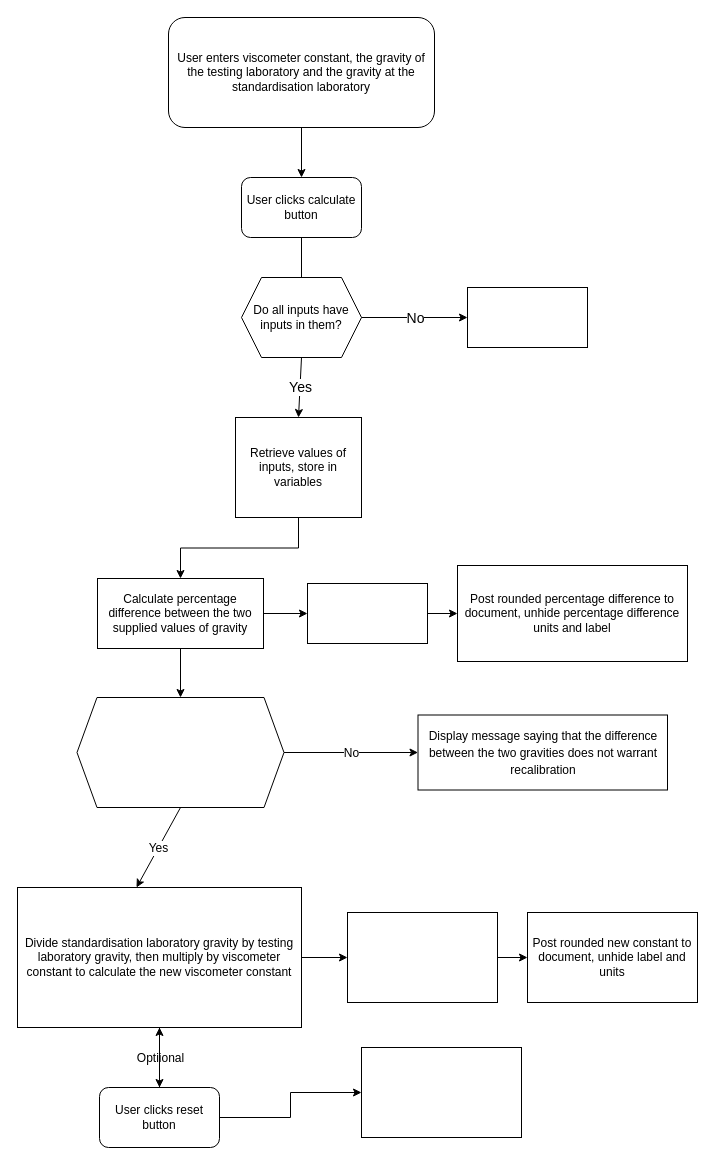
Some shapes in this 715 by 1165 pixel diagram are drawn without their labels. The centre of each missing label's shape, as x and y in pixels:
Alert user: the point at 527,317
Clear all calculation outputs and user inputs: the point at 441,1092
Is percentage difference greater than 0.1?: the point at 180,752
Round new viscometer constant to 4 significant figures: the point at 422,957
Round percentage difference: the point at 367,613
